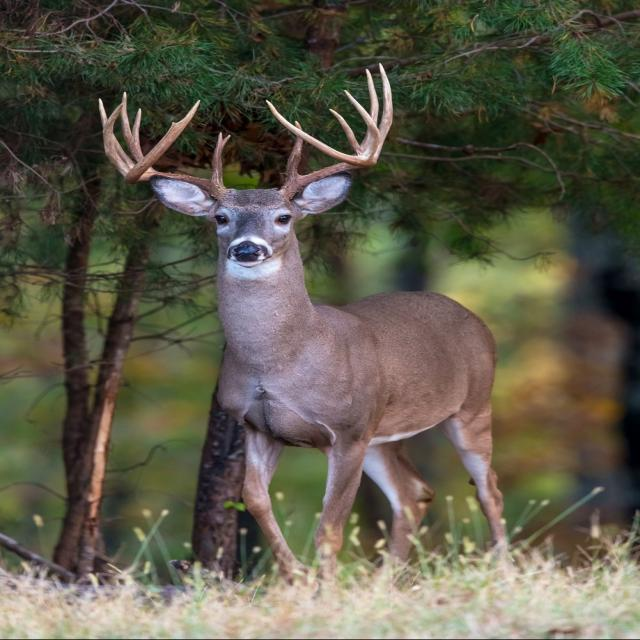deer: (99, 64, 505, 571)
